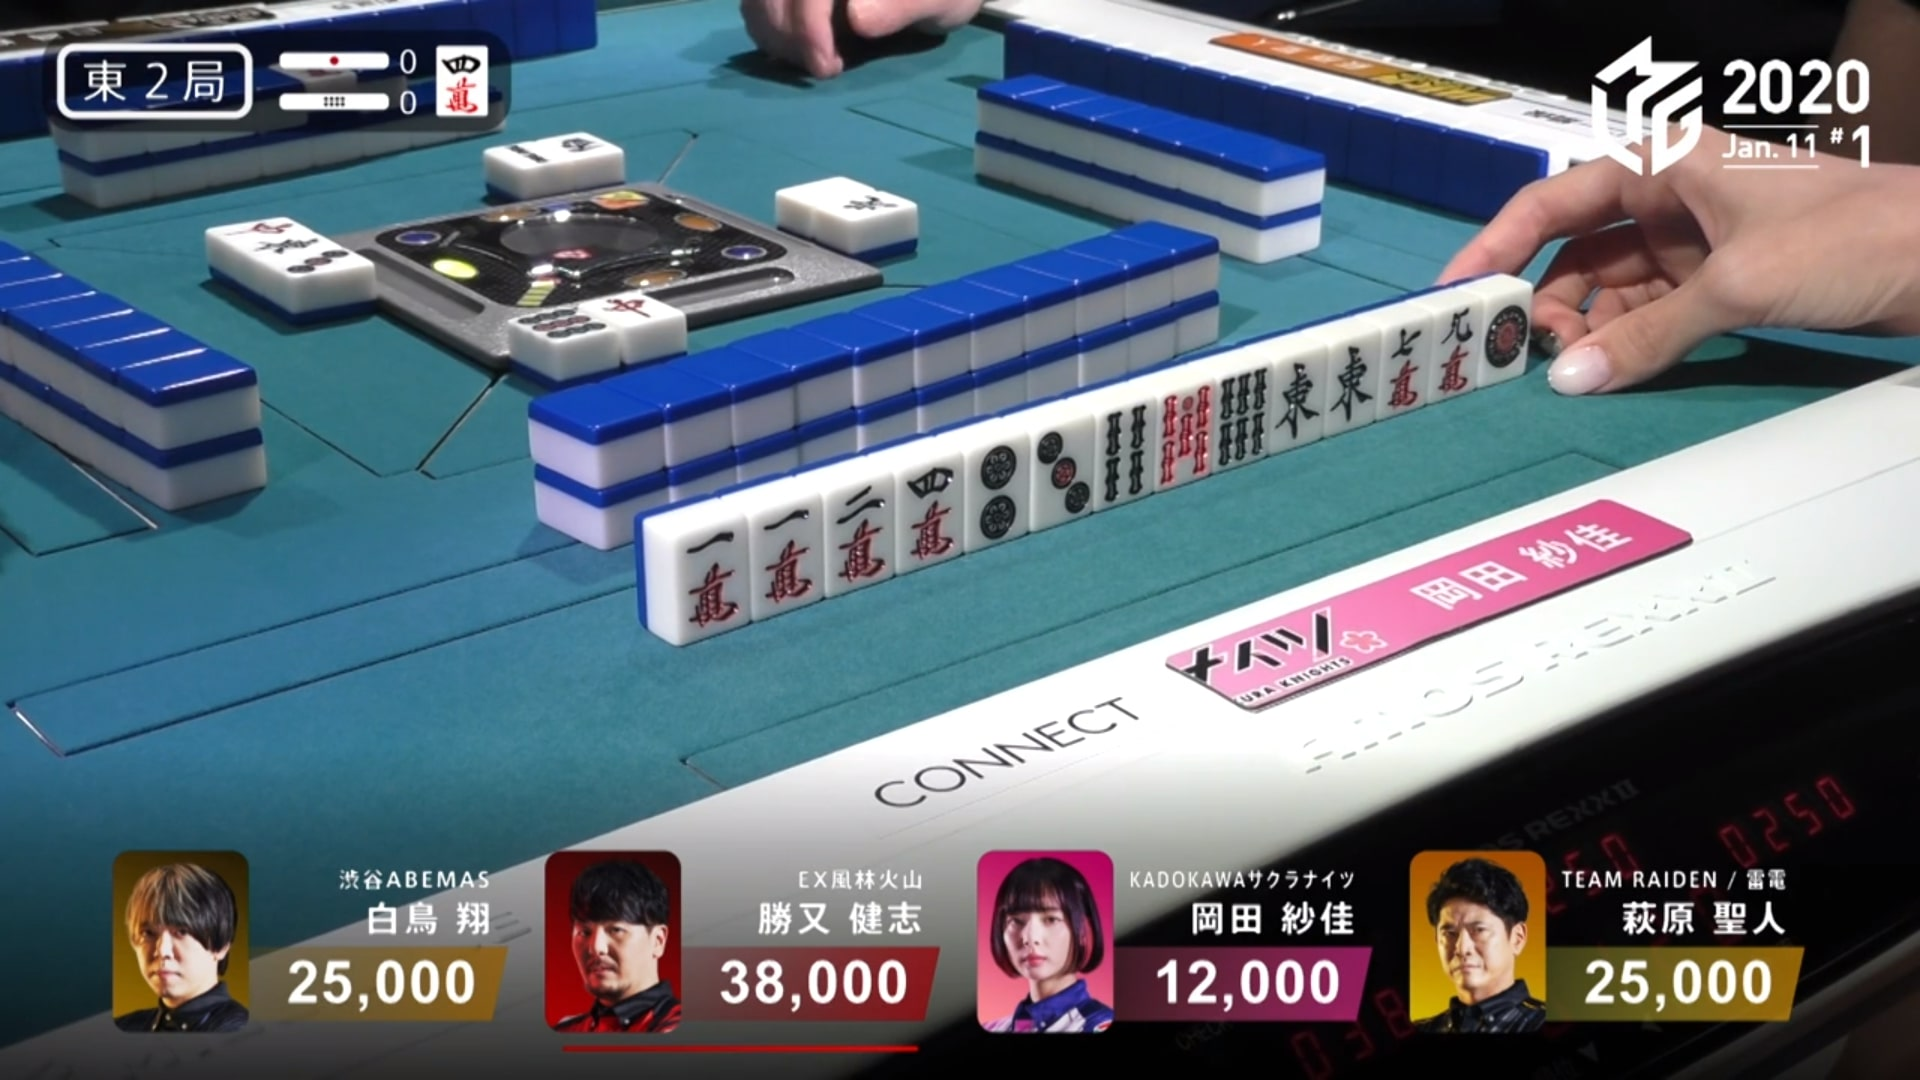1m: (669, 513, 746, 636), (752, 495, 827, 607)
1p: (1480, 289, 1532, 386)
2m: (825, 477, 895, 585)
2p: (961, 444, 1025, 545)
3p: (1029, 422, 1096, 521)
4m: (898, 459, 960, 568)
4s: (1096, 400, 1153, 508)
5sr: (1156, 381, 1209, 483)
6s: (1211, 364, 1271, 468)
7m: (1385, 316, 1429, 413)
9m: (1433, 305, 1480, 401)
hand_nan_2: (47, 36, 260, 120)
round_0: (272, 82, 427, 116)
team_kadokawa: (1163, 585, 1443, 712)
ton: (1316, 334, 1377, 433), (1273, 349, 1319, 446)
